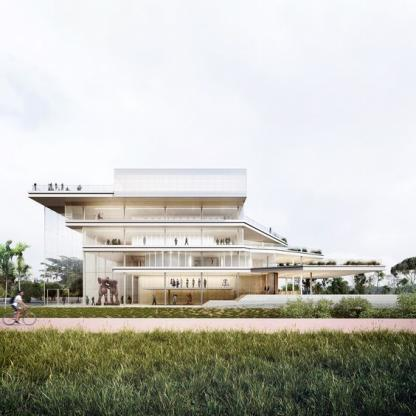Balcony: (243, 215, 287, 243), (263, 243, 322, 254), (33, 185, 114, 192), (275, 262, 303, 266)
Building Outline: (28, 167, 398, 308)
Door: (47, 289, 68, 306)
Facade: (28, 168, 398, 308)
Floor Slab: (65, 220, 288, 245), (83, 245, 324, 256), (112, 265, 386, 268), (28, 192, 247, 194), (142, 288, 235, 289)
Glass Wall: (85, 251, 274, 305), (44, 205, 83, 306), (83, 229, 242, 245), (66, 206, 243, 220), (115, 175, 245, 191), (252, 252, 274, 267), (244, 240, 263, 250), (244, 252, 249, 266), (264, 244, 272, 250)
